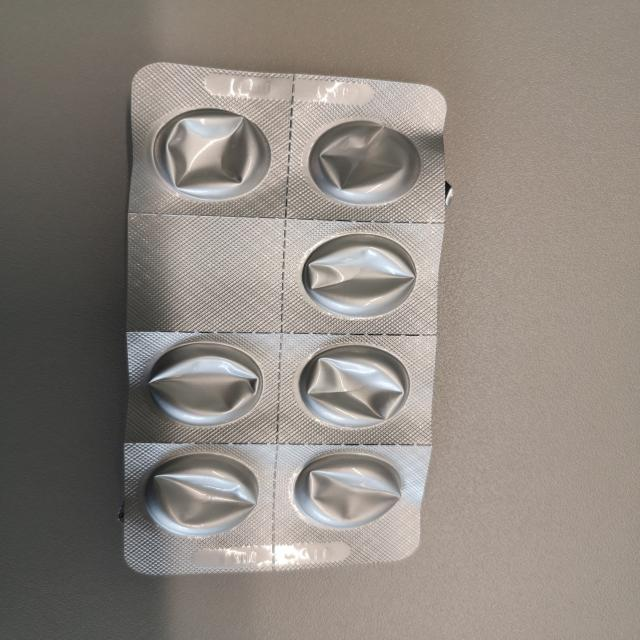Empty: (149, 104, 274, 202), (294, 230, 422, 324), (144, 337, 265, 429), (306, 116, 425, 209), (138, 448, 258, 538), (294, 343, 412, 433), (292, 449, 404, 530)
